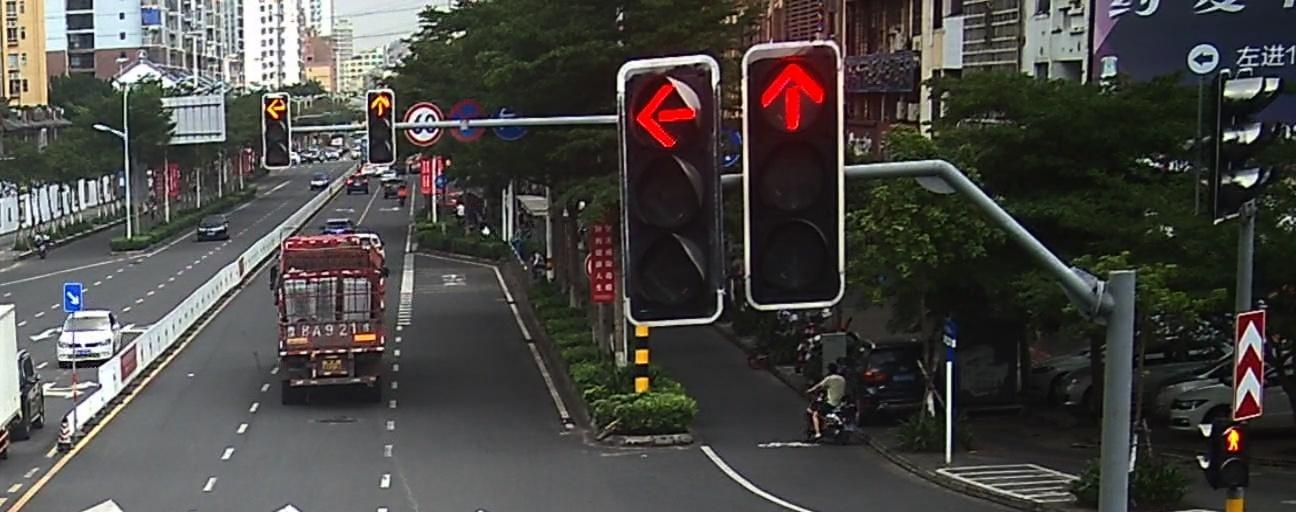redleft: (631, 78, 702, 150), (262, 96, 289, 122)
redpeople: (1218, 425, 1245, 453)
redstraight: (755, 59, 828, 134), (368, 94, 394, 119)
